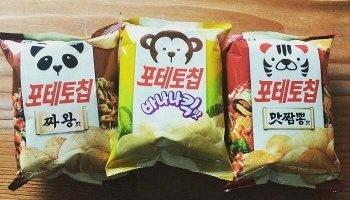snack: (105, 18, 234, 182), (0, 21, 122, 193), (221, 30, 343, 189)
